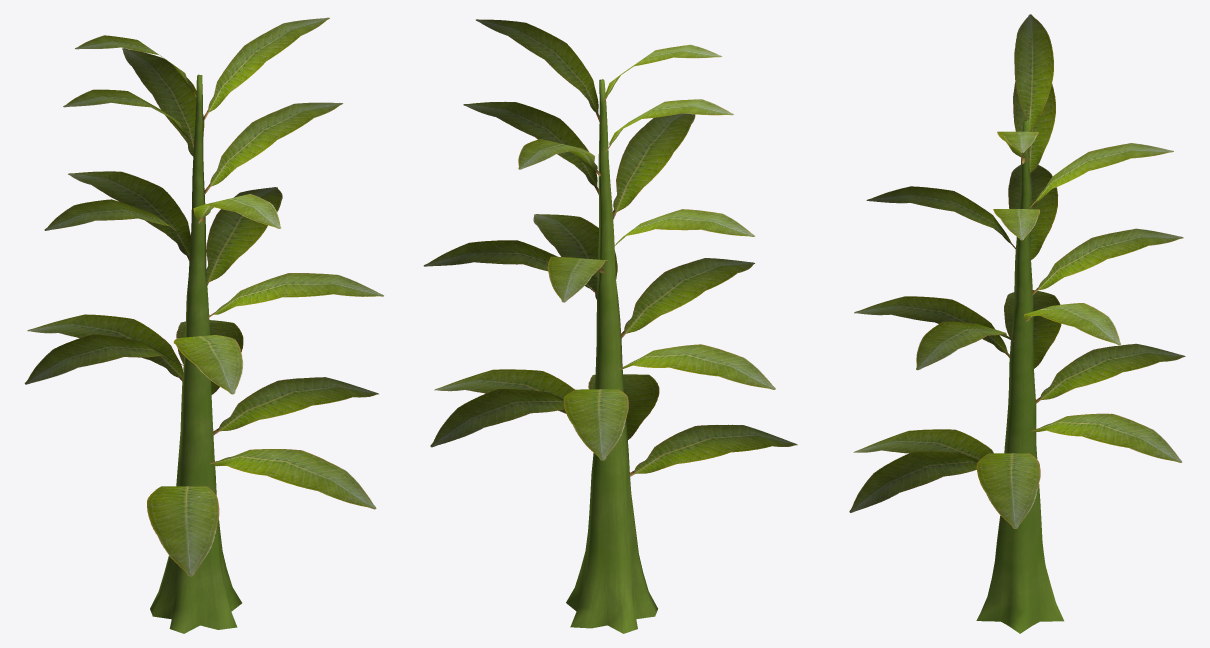
Rendered from SM_Lounge_KelpBoxKelp.fbx.
3 views of the same model, side by side, from view 1: azimuth 30°, elevation 25°; view 2: azimuth 150°, elevation 25°; view 3: azimuth 270°, elevation 25° (orthographic). The views are drawn at different scales.
Parts seen in each view (by area): view 1: leaf tropical01_1, plant01_0; view 2: leaf tropical01_1, plant01_0; view 3: leaf tropical01_1, plant01_0.
Boxes of the visible parts, left/top/right/bottom form: leaf tropical01_1: left=24, top=17, right=383, bottom=576; plant01_0: left=150, top=74, right=241, bottom=633; leaf tropical01_1: left=423, top=19, right=797, bottom=476; plant01_0: left=566, top=79, right=657, bottom=633; leaf tropical01_1: left=849, top=14, right=1185, bottom=528; plant01_0: left=976, top=119, right=1063, bottom=633.
Bounding box in the file's own units: 38.85 × 62.89 × 37.25.
